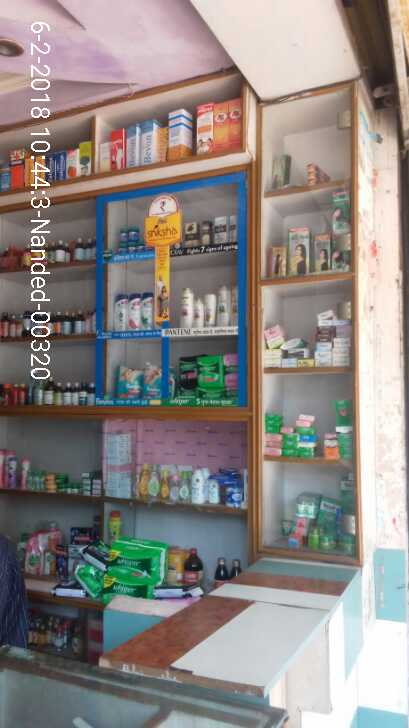vicks: (113, 221, 146, 254)
